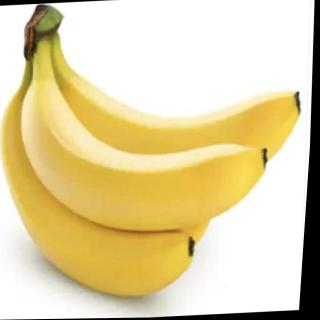banana: (0, 84, 209, 304), (13, 72, 278, 240), (51, 63, 308, 193)
